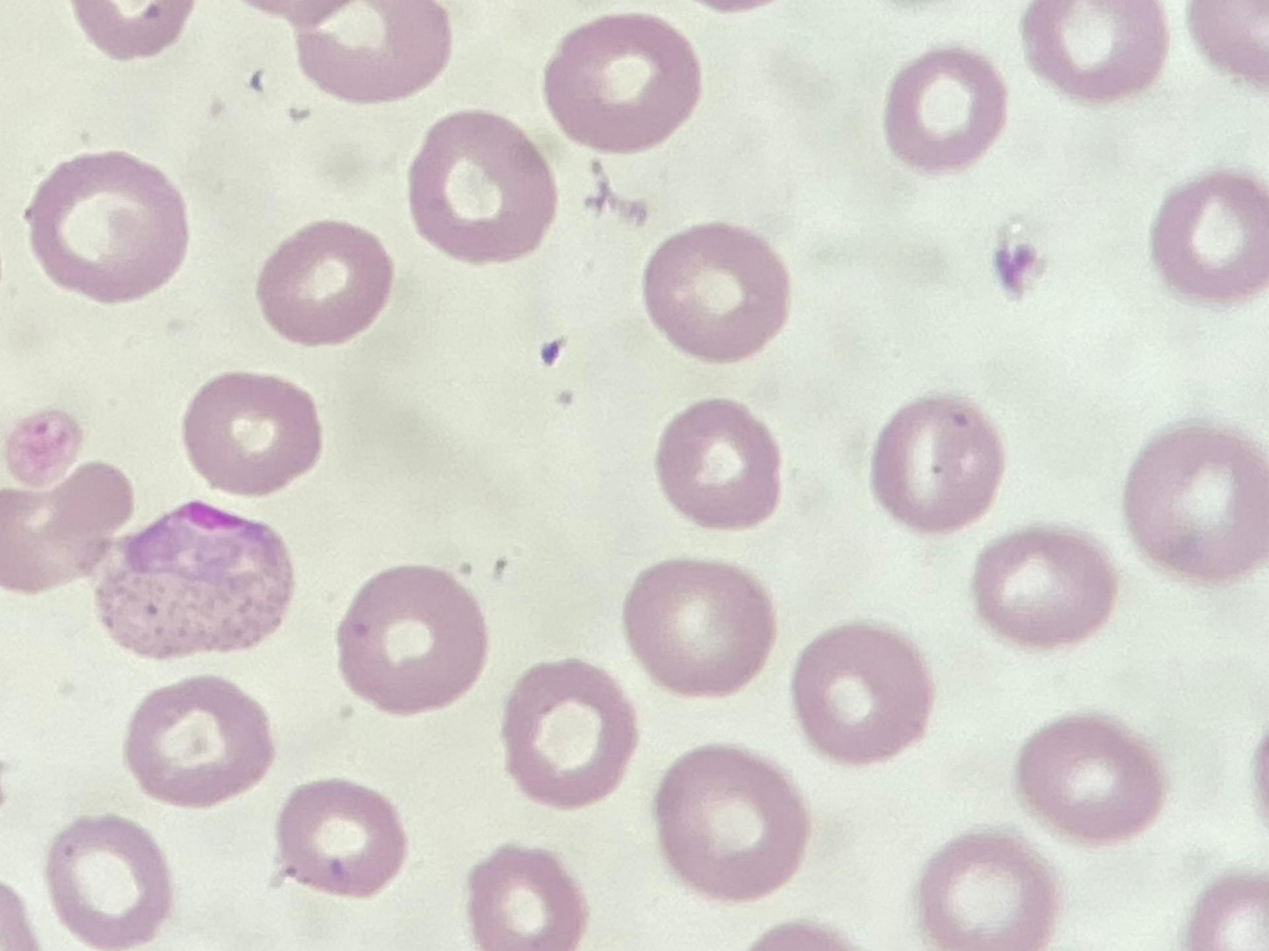Infected: (975, 291, 1190, 447)
Uninfected: (1077, 646, 1241, 800), (459, 48, 612, 201), (783, 232, 933, 386), (0, 365, 137, 526), (568, 797, 726, 936), (714, 686, 859, 835), (494, 253, 642, 389), (630, 142, 765, 291), (337, 189, 477, 328), (482, 587, 624, 724), (996, 144, 1145, 274), (106, 104, 252, 233), (266, 415, 398, 555), (1137, 357, 1269, 491), (874, 602, 1011, 726), (212, 0, 350, 123), (947, 456, 1085, 579), (154, 304, 295, 423), (1097, 2, 1224, 130), (818, 845, 970, 951), (486, 422, 611, 550), (863, 50, 991, 173), (261, 775, 385, 898), (0, 646, 116, 777), (102, 846, 246, 951), (679, 0, 804, 106)
